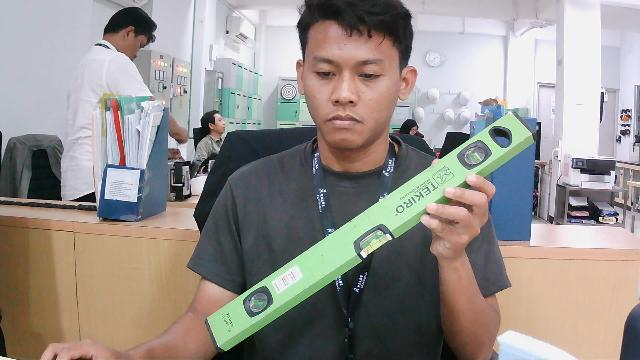water_pass: (205, 97, 539, 359)
